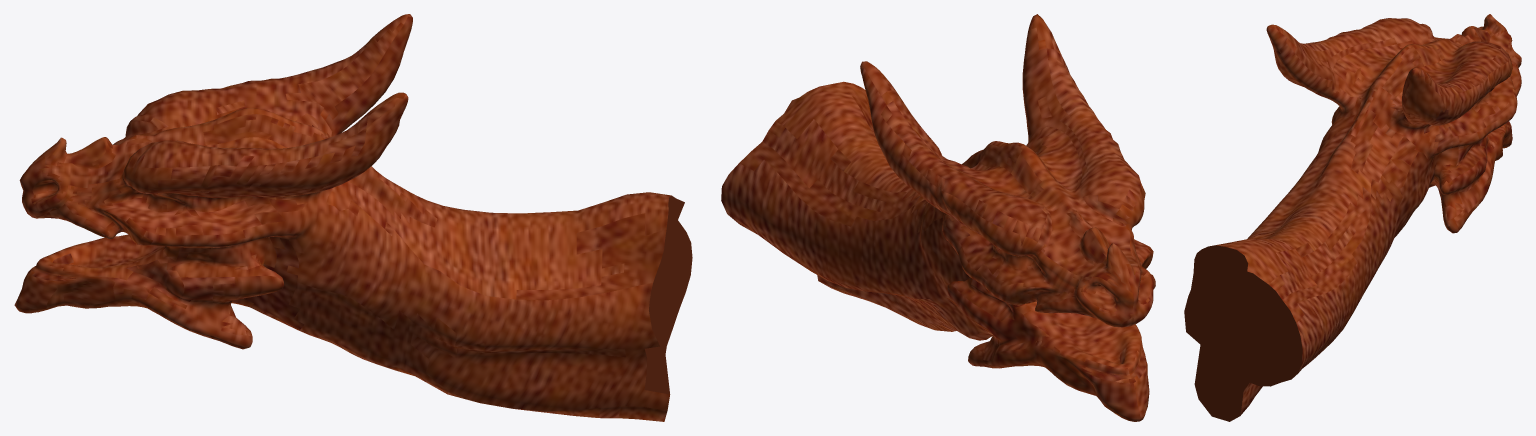
The model's file is Cabeza5.obj.
3 views of the same model, side by side, from view 1: azimuth 30°, elevation 25°; view 2: azimuth 150°, elevation 25°; view 3: azimuth 270°, elevation 25° (orthographic). The views are drawn at different scales.
Visible parts, largest first — view 1: Cabeza5; view 2: Cabeza5; view 3: Cabeza5.
Part boxes in pixels (left/top/right/bottom): Cabeza5: left=14, top=14, right=692, bottom=421; Cabeza5: left=721, top=14, right=1155, bottom=421; Cabeza5: left=1184, top=14, right=1521, bottom=421.
Size of the model in its own units: 14.45 by 8.91 by 9.08.
